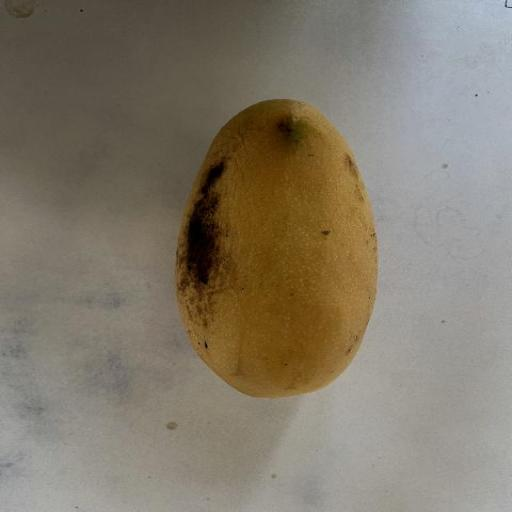mango-overripe: (146, 60, 402, 391)
